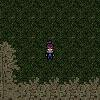Victim: (43, 39, 57, 61)
